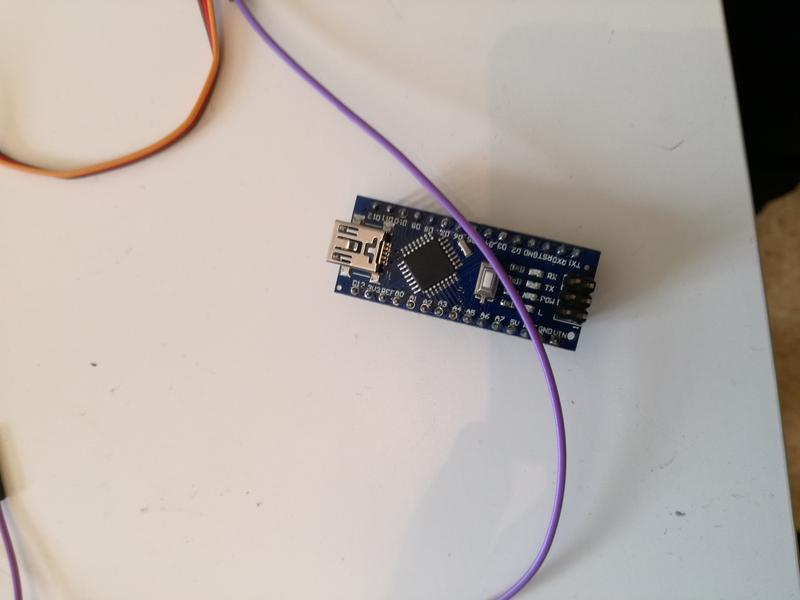Arduino_Nano: (322, 193, 606, 363)
